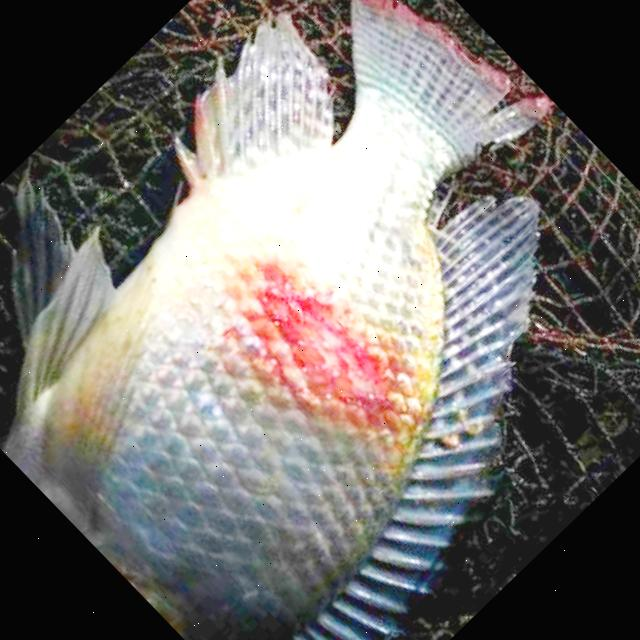Tilapia Lake Virus -TiLV-: (4, 0, 550, 640), (3, 0, 549, 640)
